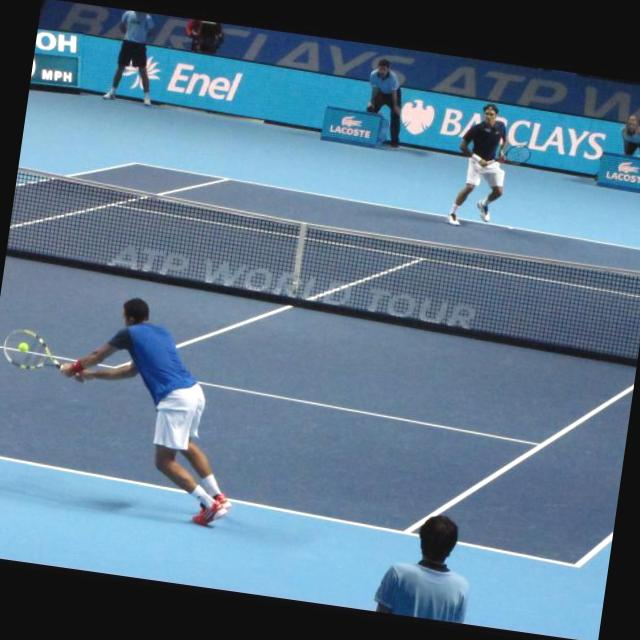Tennis Ball: (18, 342, 29, 352)
